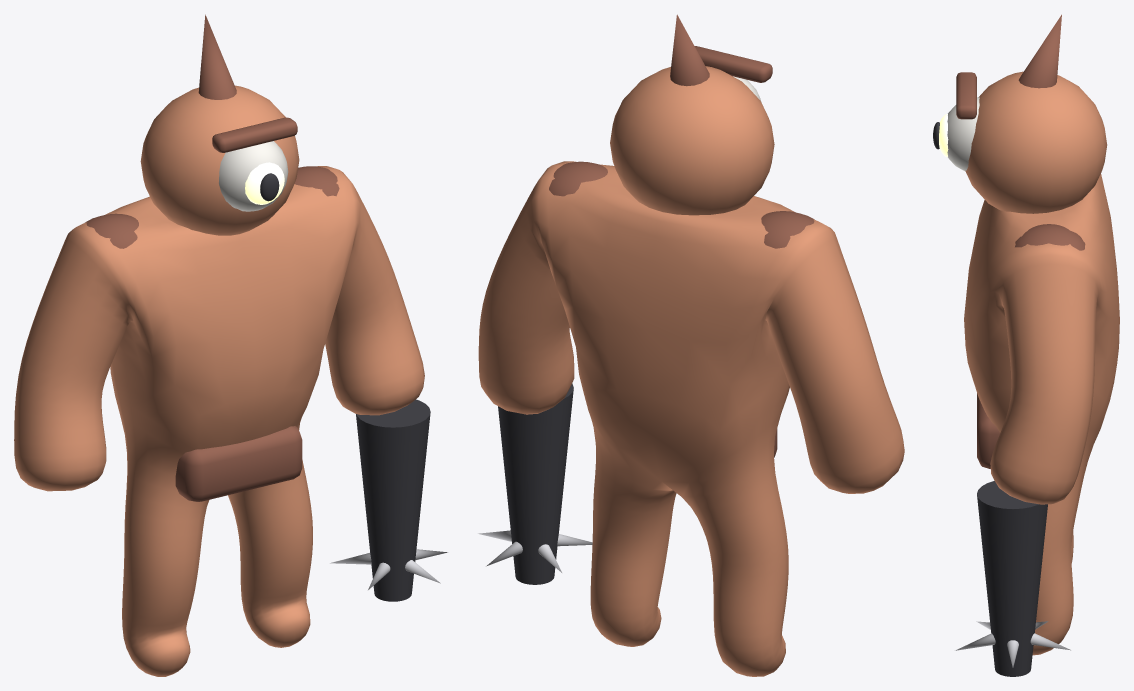
File: cyclops.glb
3 views of the same model, side by side, from view 1: azimuth 30°, elevation 25°; view 2: azimuth 150°, elevation 25°; view 3: azimuth 270°, elevation 25° (orthographic). The views are drawn at different scales.
Parts seen in each view (by area): view 1: skin; view 2: skin; view 3: skin.
Part boxes in pixels (left/top/right/bottom): skin: left=14, top=14, right=447, bottom=676; skin: left=478, top=14, right=904, bottom=676; skin: left=933, top=14, right=1119, bottom=676.
Bounding box in the file's own units: 0.6883 × 1 × 0.2776.
